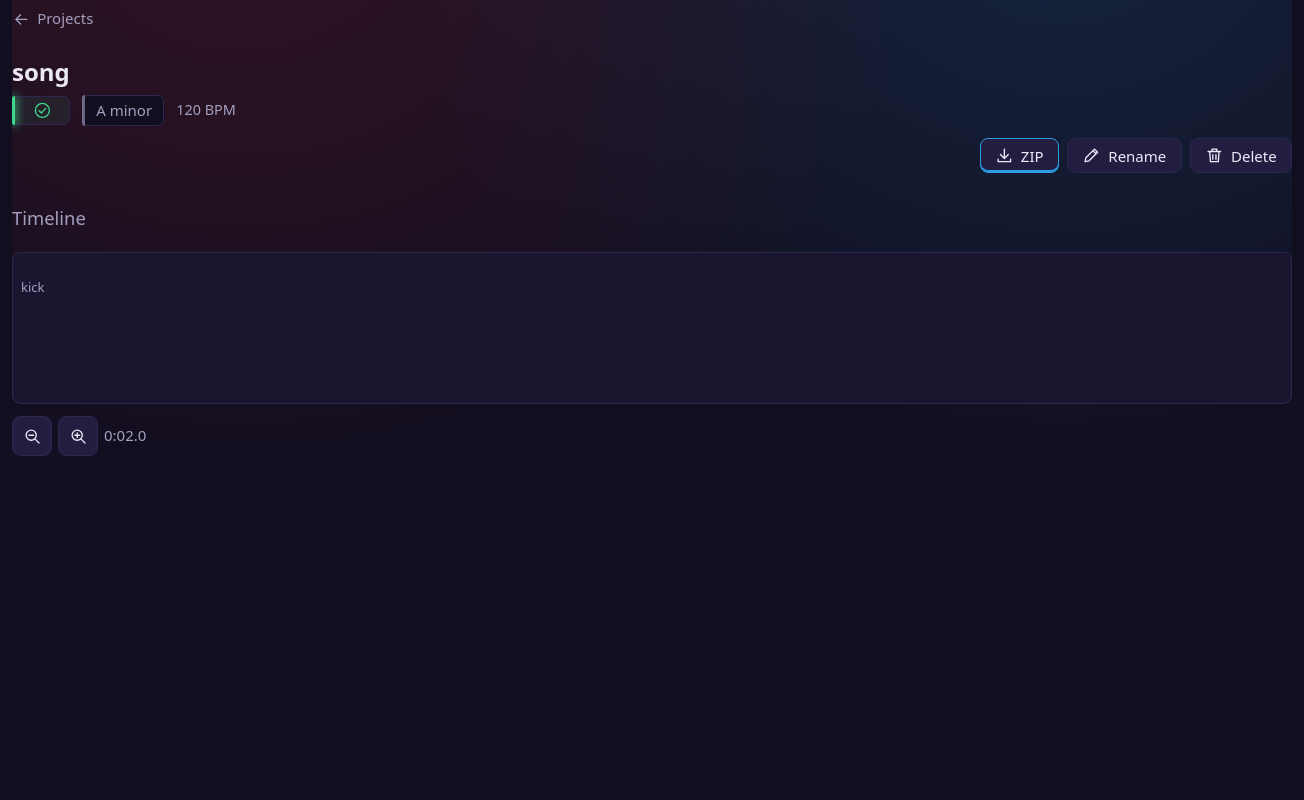
it: Viewer › shows a refused rename
The image size is (1304, 800).
Click the button "Rename" at (1124,156), box [1067,138,1182,173]
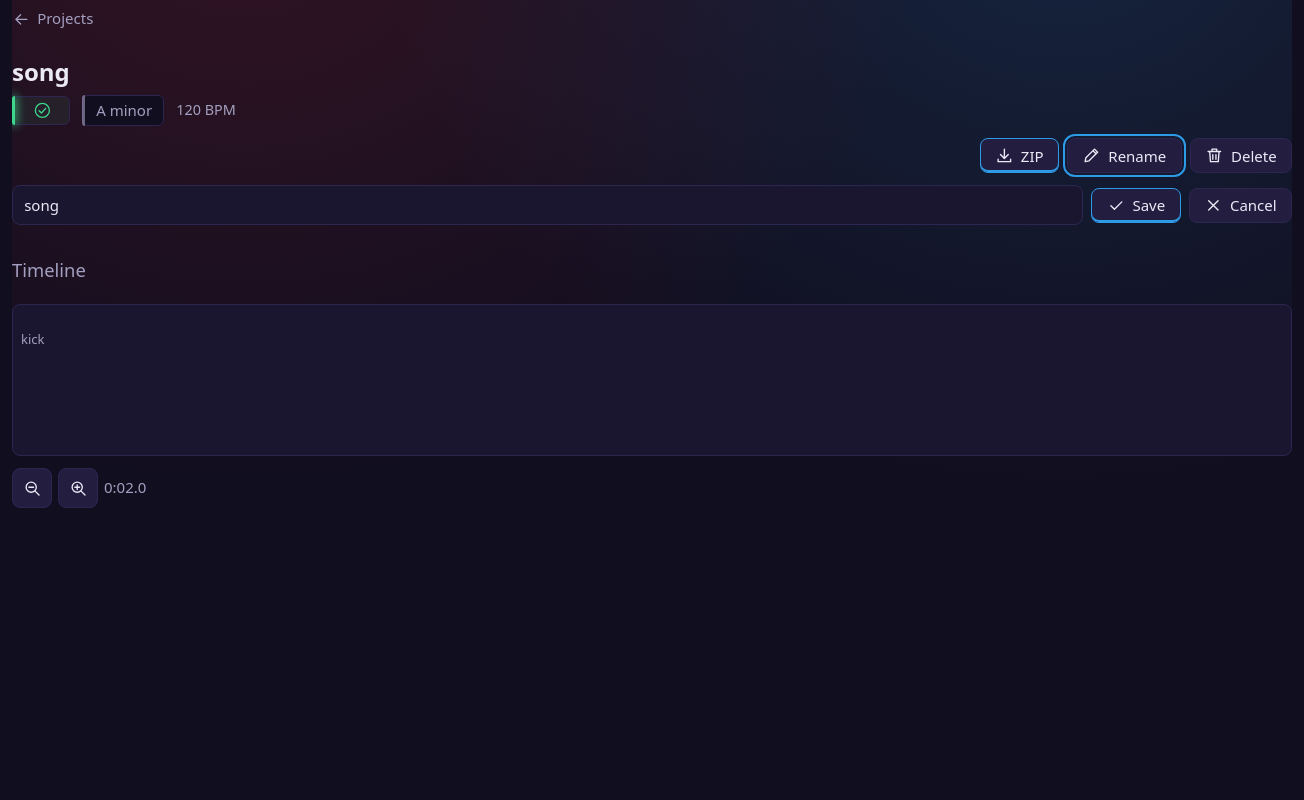
Replace the text in the field named "New name" with "tune" at (548,205), box [12,185,1083,225]
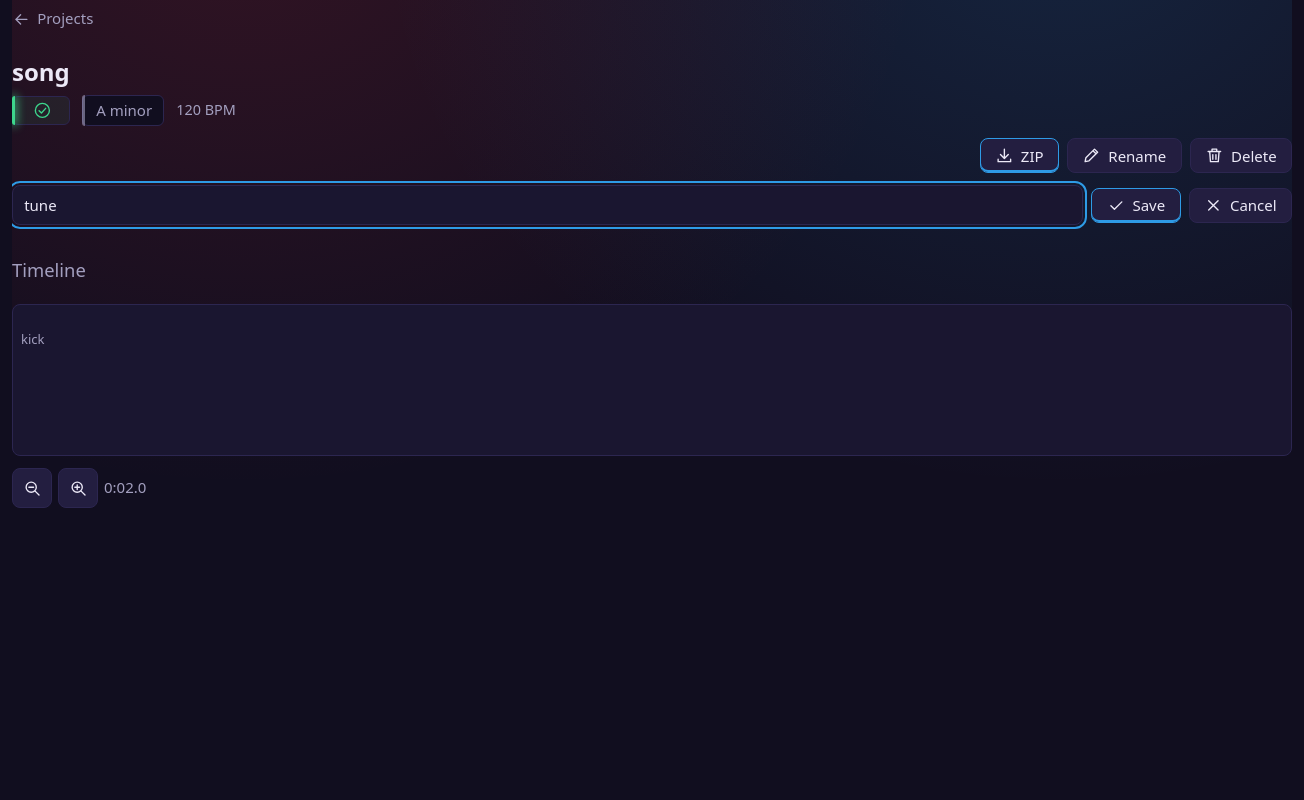
Click the button "Save" at (1136,205), box [1091,188,1181,223]
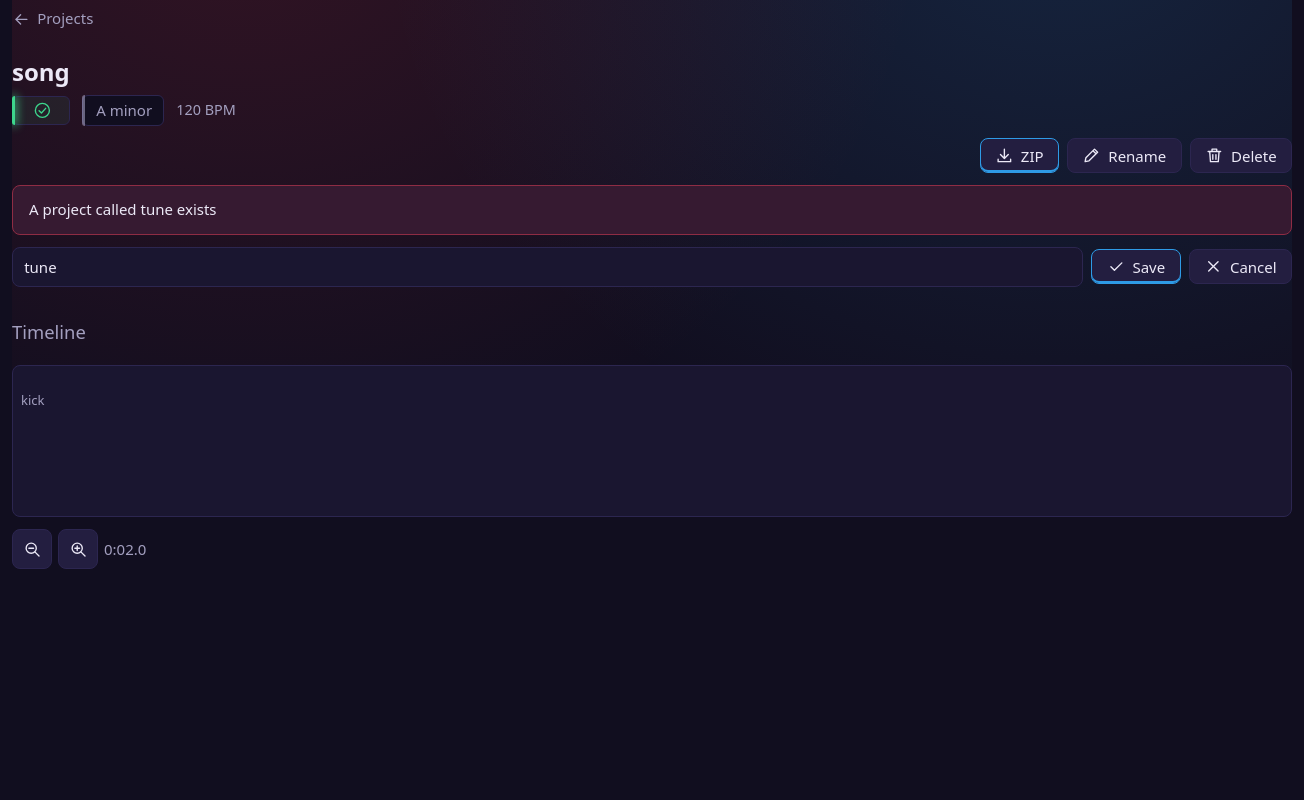
Expected: the message reads "A project called tune exists", [29,199,216,219]
